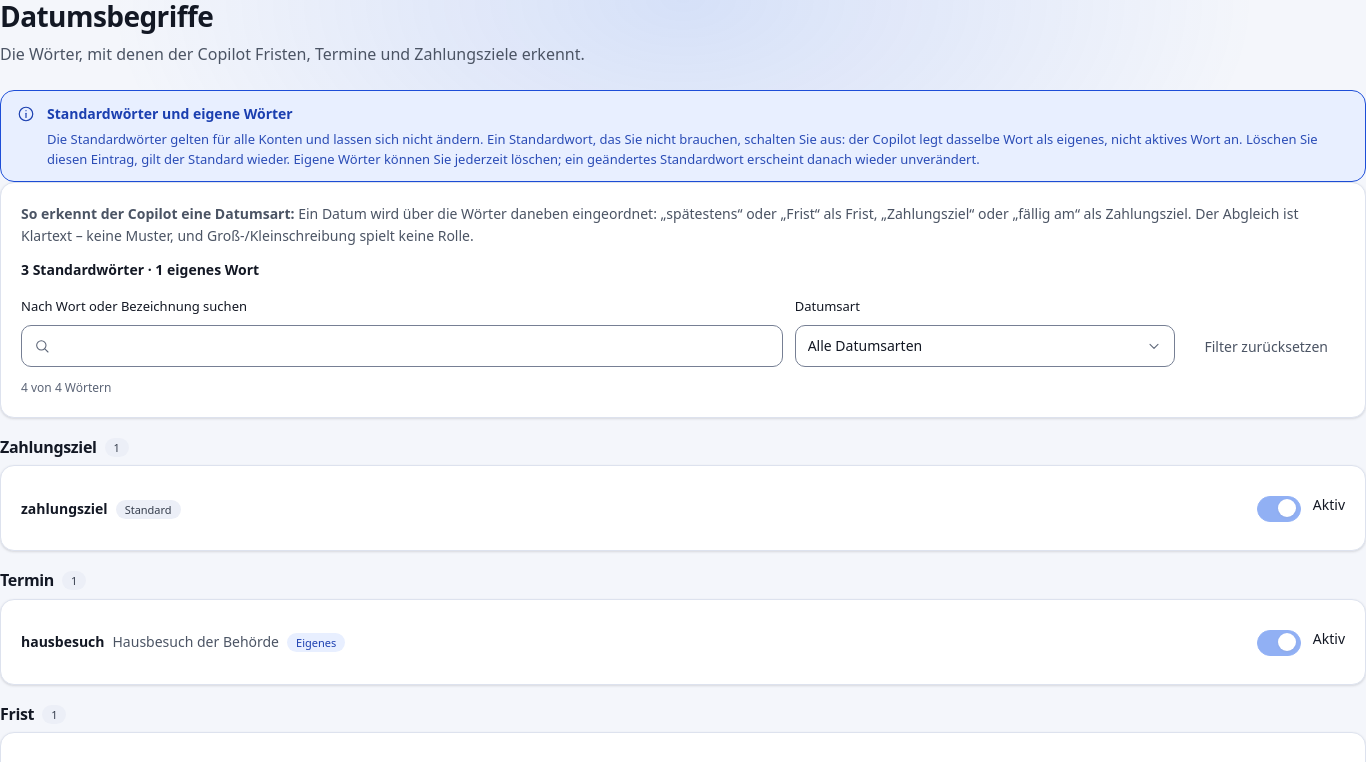
Scenario: DateMarkersPage › filters by word and by kind, and says how many of the words are shown
expect the text "zahlungsziel" is shown: met, box [21,498,108,519]
expect the text "4 von 4 Wörtern" is shown: met, box [21,379,112,396]
Type "haus" into the search field labelled "Nach Wort oder Bezeichnung suchen" at (420, 346), box [58,326,782,366]
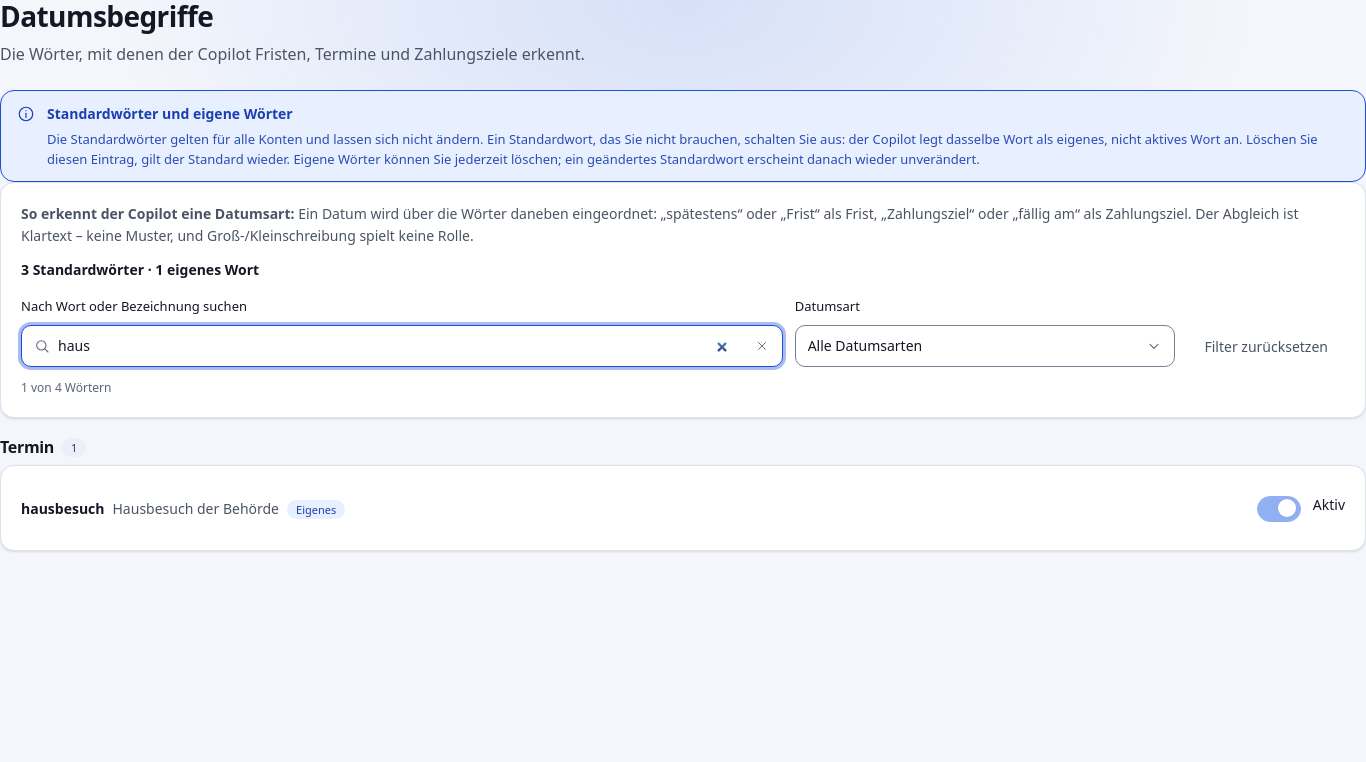
expect the text "hausbesuch" is shown: met, box [21,498,104,519]
expect the text "1 von 4 Wörtern" is shown: met, box [21,379,112,396]
Click the button named "Leeren" at (762, 346), box [750,334,774,358]
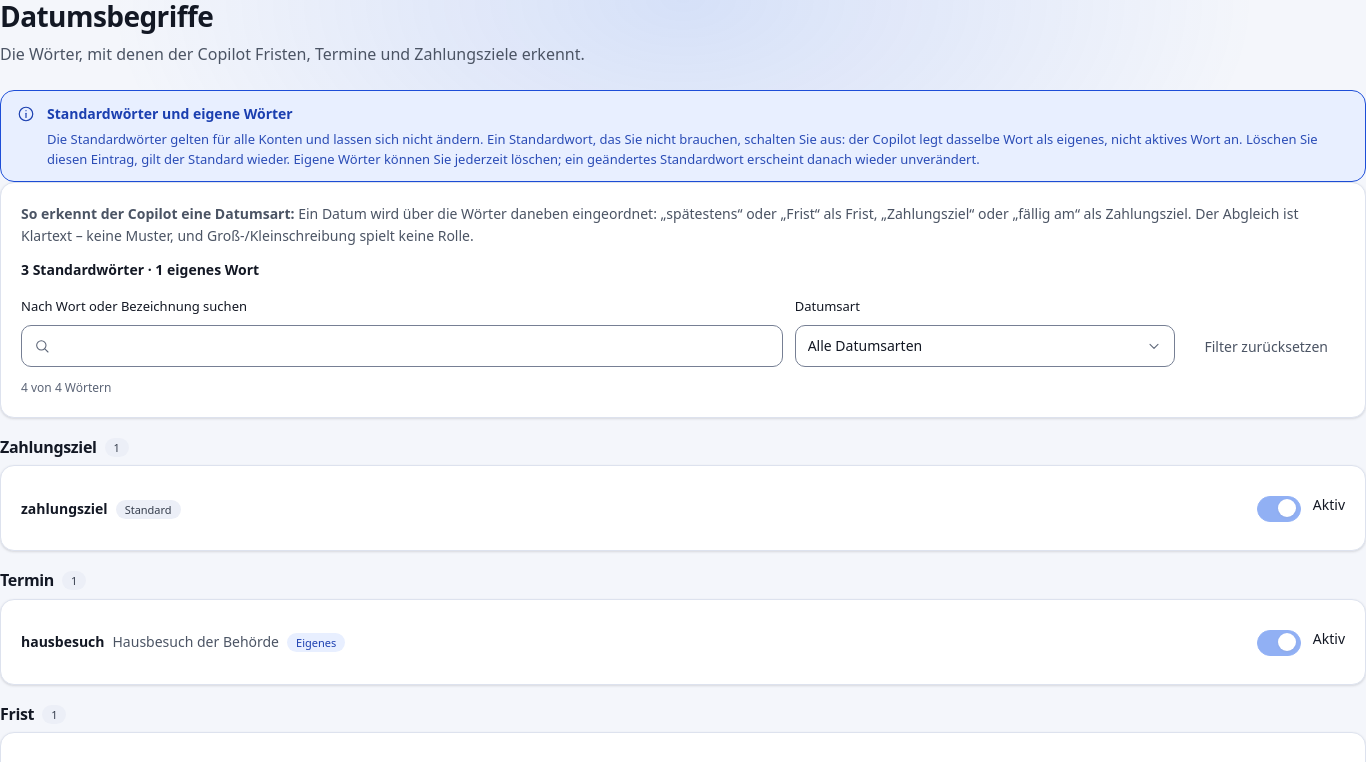
Select "Frist" in the dropdown labelled "Datumsart" at (985, 346), box [796,326,1174,366]
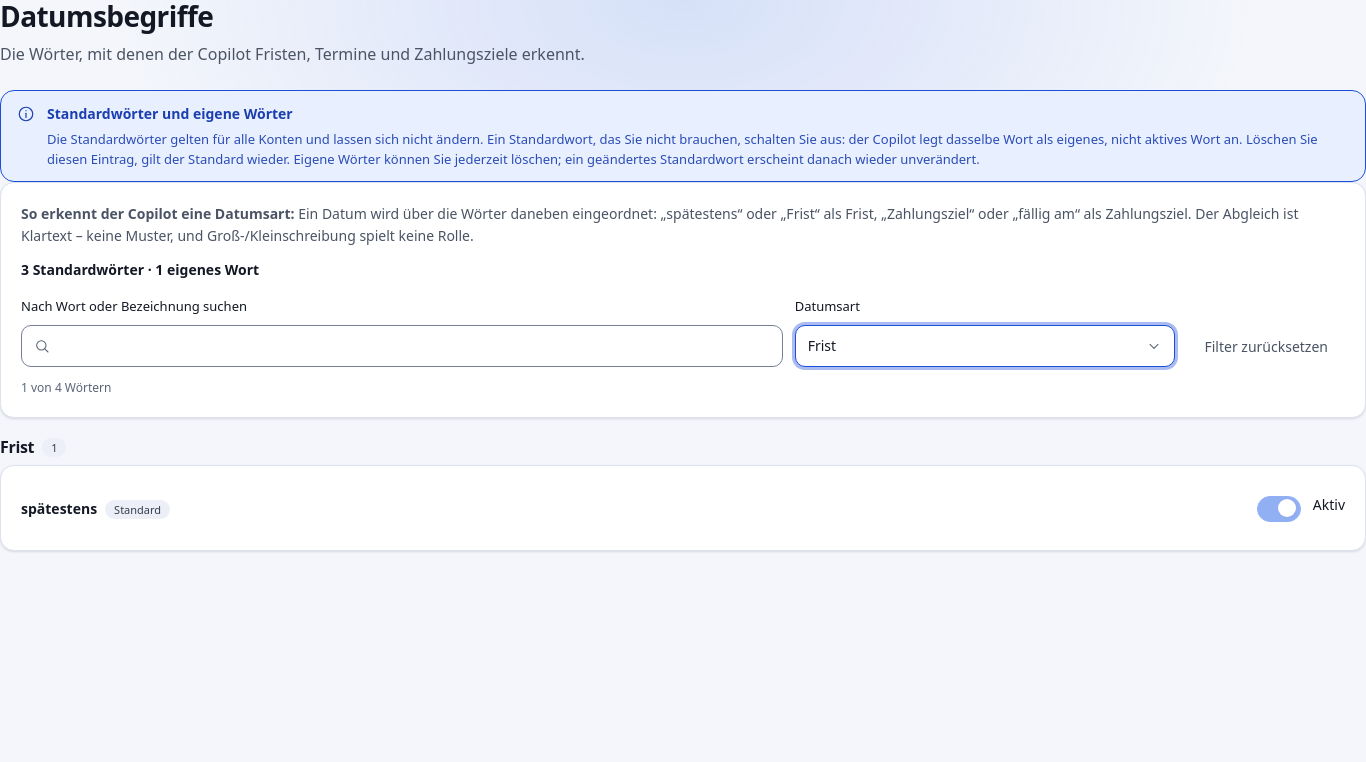
expect the text "spätestens" is shown: met, box [21,498,97,519]
expect the text "hausbesuch" is gone: met
Click the button "Filter zurücksetzen" at (1266, 347), box [1188,327,1345,367]
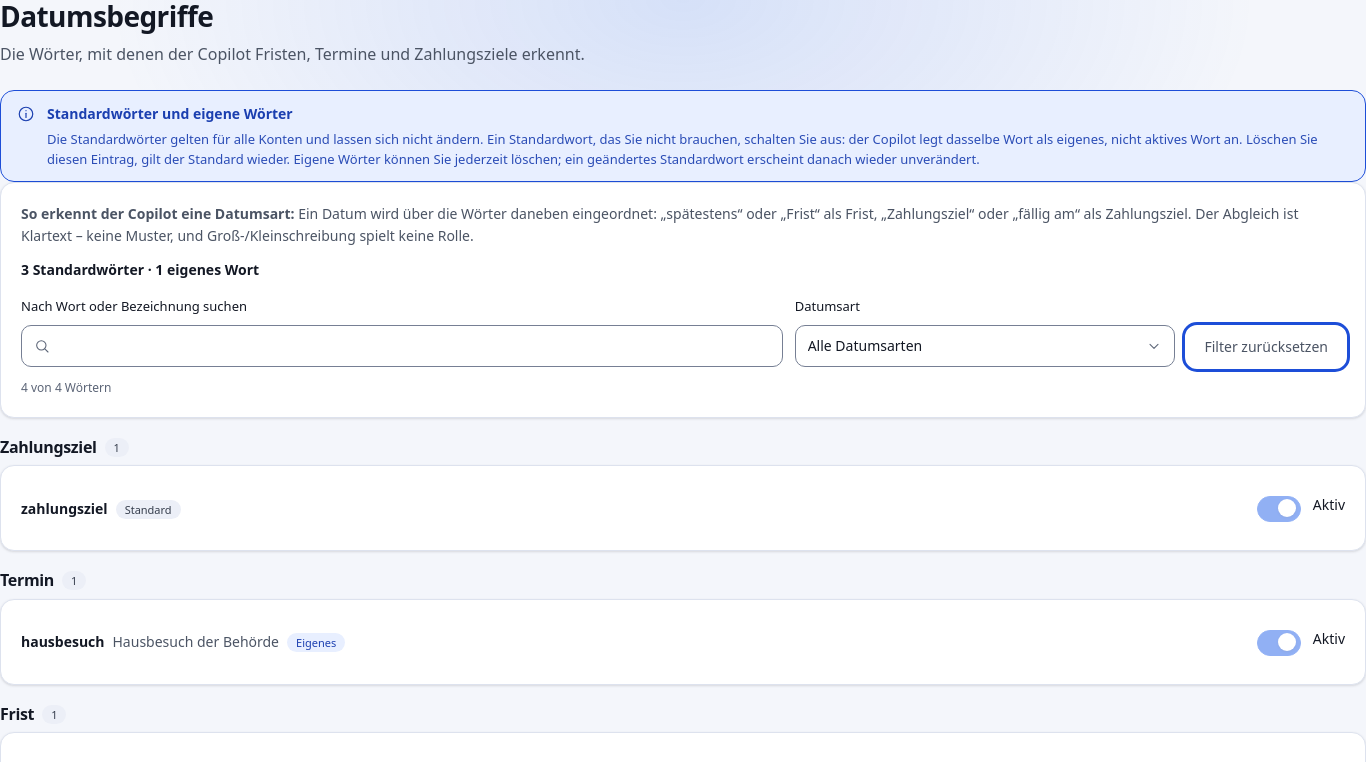
expect the text "4 von 4 Wörtern" is shown: met, box [21,379,112,396]
